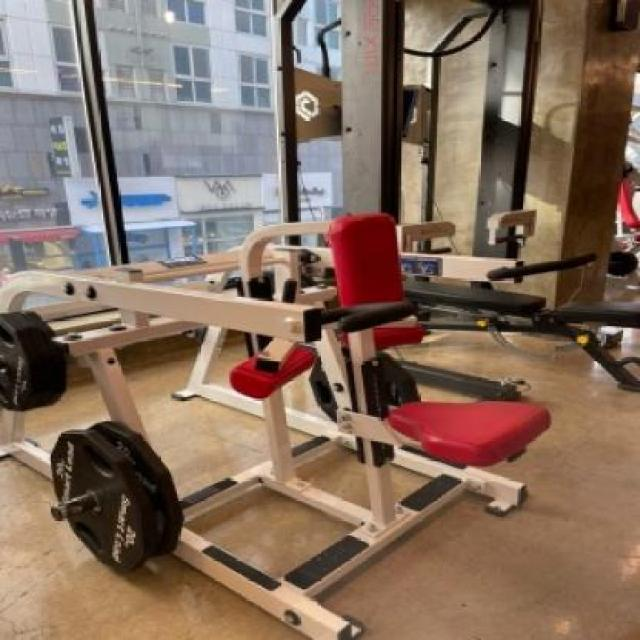seated dip machine: (0, 211, 597, 640)
